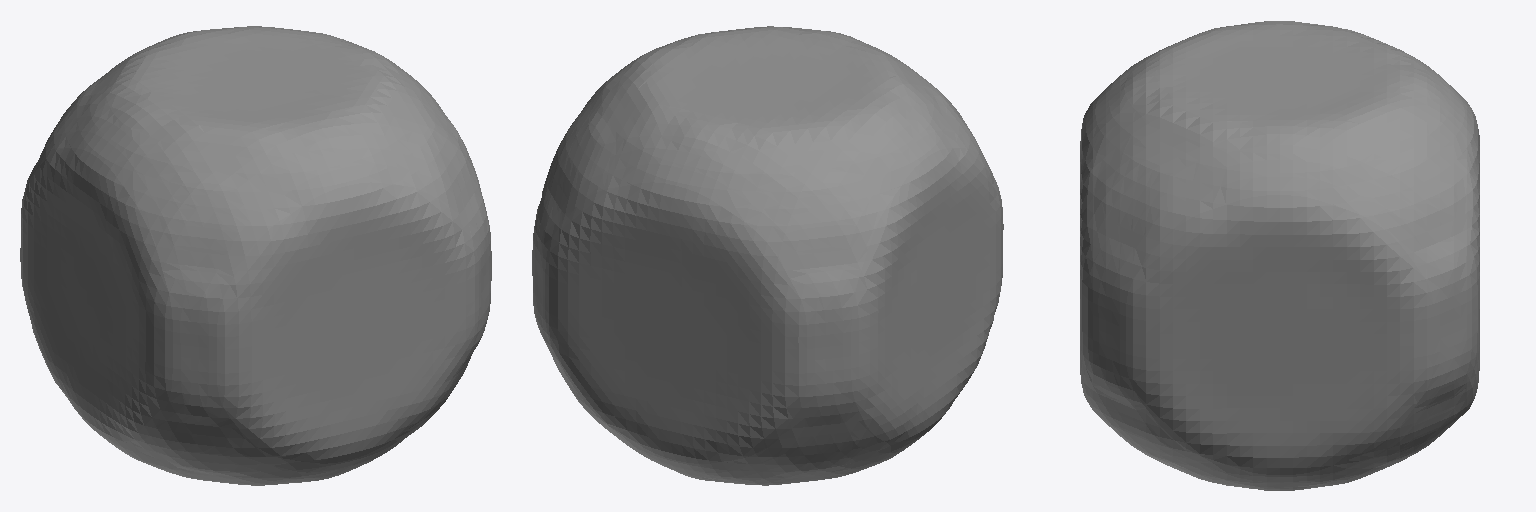
robot.urdf — cube.urdf:
<?xml version="0.0" ?> 
<robot name="cube.urdf"> 
<link name="legobrick"> 
<contact> 
<lateral_friction value="5.0"/> 
<rolling_friction value="0.0"/> 
<contact_cfm value="0.0"/> 
<contact_erp value="1.0"/> 
</contact> 
<inertial> 
<origin rpy="0 0 0" xyz="0.0 0.0 0.0"/> 
<mass value=".01"/> 
<inertia ixx="1" ixy="0" ixz="0" iyy="1" iyz="0" izz="1"/> 
</inertial> 
<visual> 
<origin rpy="1.570796 0 0" xyz="-0.02586164566046238 0.025862006117592456 -0.02586251727153492"/> 
<geometry> 
<mesh filename="G00_2.obj" scale="0.0006990432869108823 0.0006990432869108823 0.0006990432869108823"/> 
</geometry> 
<material name="yellow"> 
<color rgba="0.6 0.6 0.6 1"/> 
</material> 
</visual> 
<collision> 
<origin rpy="1.570796 0 0" xyz="-0.02586164566046238 0.025862006117592456 -0.02586251727153492"/> 
<geometry> 
<mesh filename="G00_2.obj" scale="0.0006990432869108823 0.0006990432869108823 0.0006990432869108823"/> 
</geometry> 
</collision> 
</link> 
</robot>

--- Facts derived from the render (not from the file) ---
3 views of the same robot in one strip: view 1: azimuth 30°, elevation 25°; view 2: azimuth 150°, elevation 25°; view 3: azimuth 270°, elevation 25° (orthographic).
Model cube.urdf with 1 links and 0 joints (none), rooted at legobrick, posed every joint at zero.
Links seen in each view (by area): view 1: legobrick; view 2: legobrick; view 3: legobrick.
Link boxes in pixels (x1=…): legobrick: x1=20, y1=26, x2=491, y2=485; legobrick: x1=532, y1=26, x2=1003, y2=485; legobrick: x1=1080, y1=21, x2=1479, y2=490.
Size in the robot's own frame: 0.056 by 0.056 by 0.0559 metres.
1 mesh visuals loaded from 1 distinct referenced files (1 OBJ).
